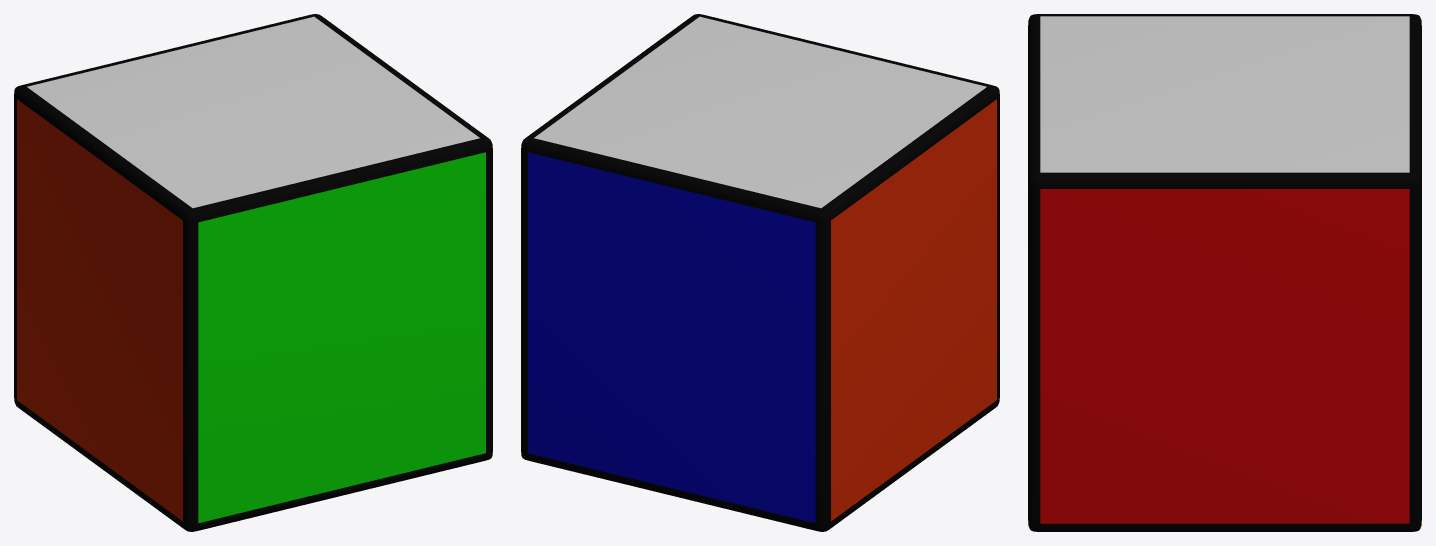
Rendered from rubix1x1.obj.
The picture shows the model from 3 angles, left to right: view 1: azimuth 30°, elevation 25°; view 2: azimuth 150°, elevation 25°; view 3: azimuth 270°, elevation 25°; orthographic projection. The views are drawn at different scales.
Visible parts, largest first — view 1: Cube; view 2: Cube; view 3: Cube.
Boxes of the visible parts, x1,y1,x2,y2 form: Cube: [14, 14, 492, 531]; Cube: [521, 14, 999, 531]; Cube: [1028, 14, 1421, 531].
Size of the model in its own units: 2 by 2 by 2.
